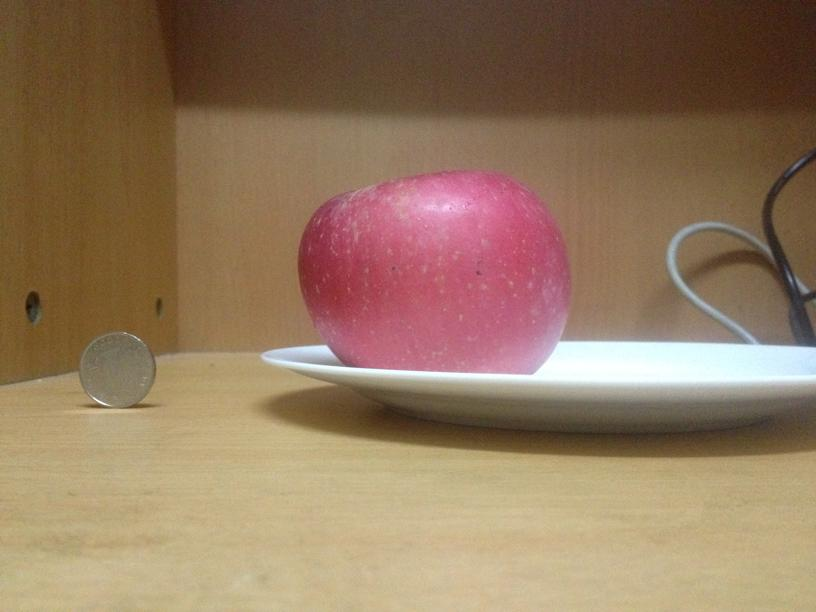apple: (293, 168, 572, 375)
coin: (74, 332, 157, 409)
